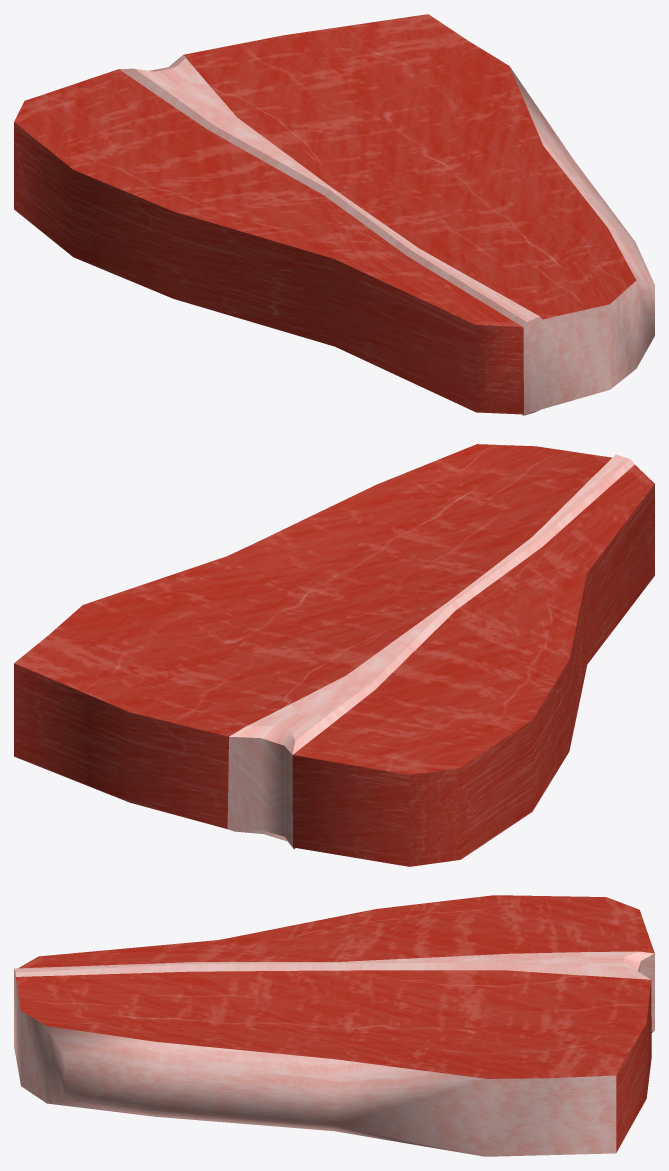
Rendered from liha_v2.FBX.
3 views of the same model, one above another, from view 1: azimuth 30°, elevation 25°; view 2: azimuth 150°, elevation 25°; view 3: azimuth 270°, elevation 25° (orthographic). The views are drawn at different scales.
Parts seen in each view (by area): view 1: Box002; view 2: Box002; view 3: Box002.
Boxes of the visible parts, <box> form: Box002: <box>14,14,654,415</box>; Box002: <box>14,444,654,866</box>; Box002: <box>14,895,654,1156</box>.
Bounding box in the file's own units: 116 × 25.93 × 170.
2 materials, 2 textured.
